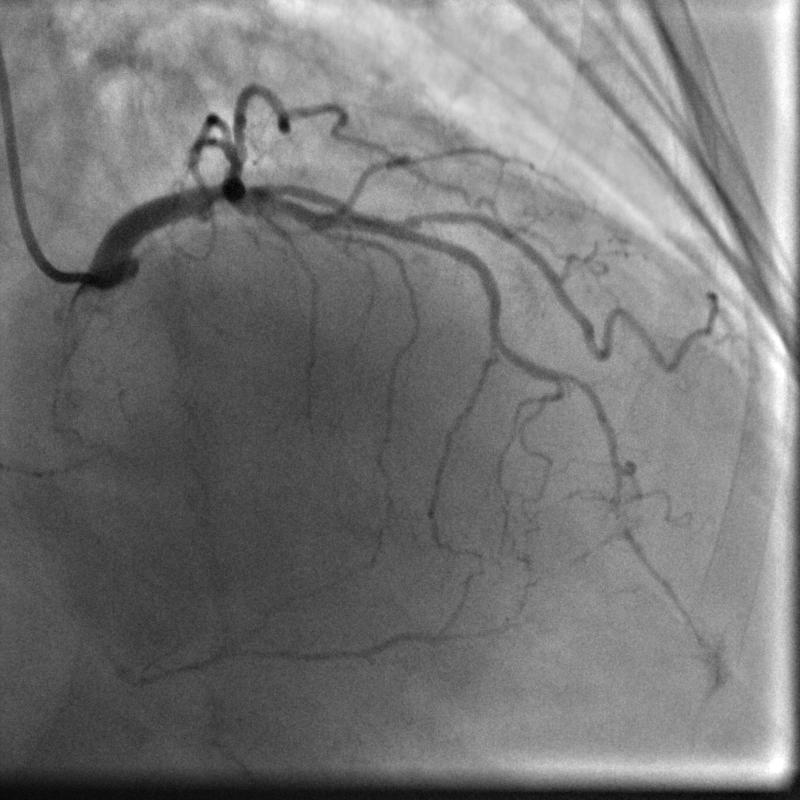Stenosis: (379, 204, 467, 234)
